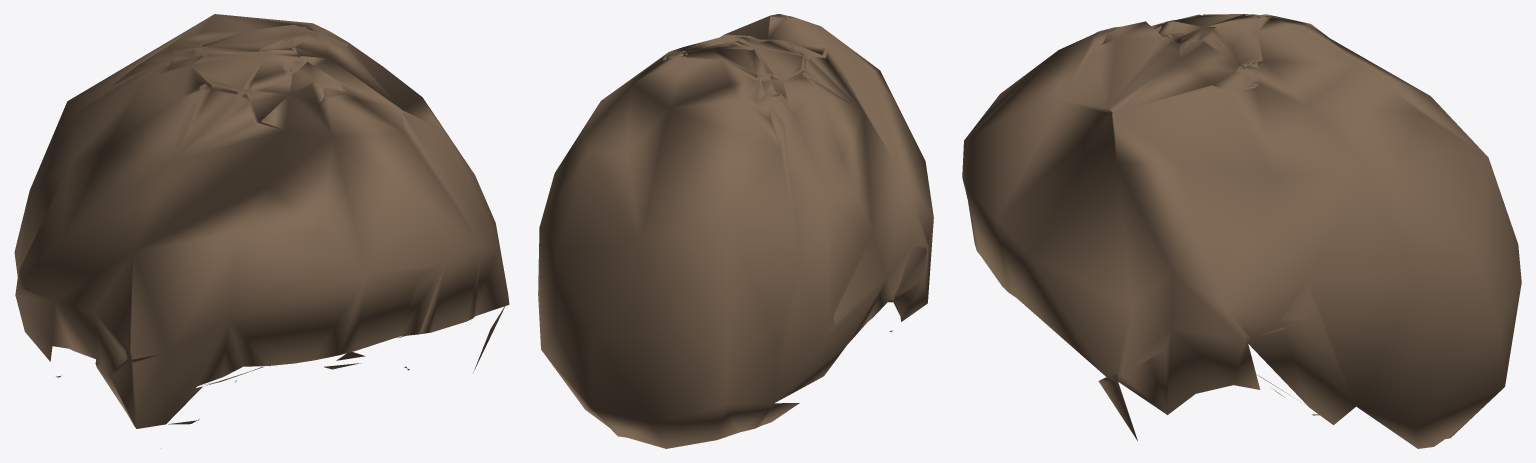
Rendered from hair32-male-short-a3.glb.
3 views of the same model, side by side, from view 1: azimuth 30°, elevation 25°; view 2: azimuth 150°, elevation 25°; view 3: azimuth 270°, elevation 25° (orthographic). The views are drawn at different scales.
Parts seen in each view (by area): view 1: hair32-short; view 2: hair32-short; view 3: hair32-short.
Part boxes in pixels (bbox=[...]): hair32-short: bbox=[14, 14, 509, 428]; hair32-short: bbox=[538, 14, 933, 448]; hair32-short: bbox=[962, 14, 1521, 448].
Size of the model in its own units: 0.1695 by 0.1666 by 0.21.
